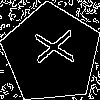X: (26, 29, 74, 67)
